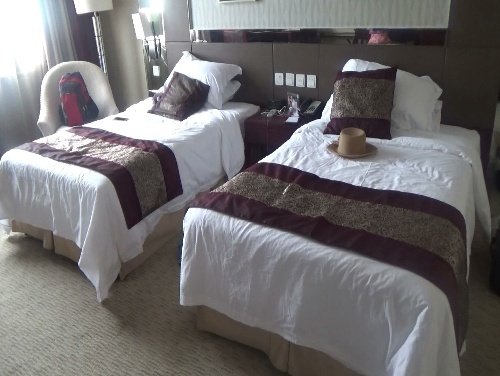bed: (172, 53, 490, 370), (7, 48, 266, 309)
chair: (33, 55, 124, 158)
